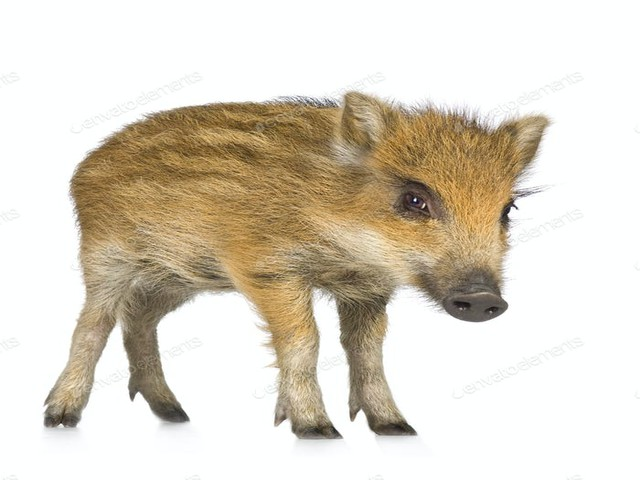Pig: (42, 87, 557, 443)
